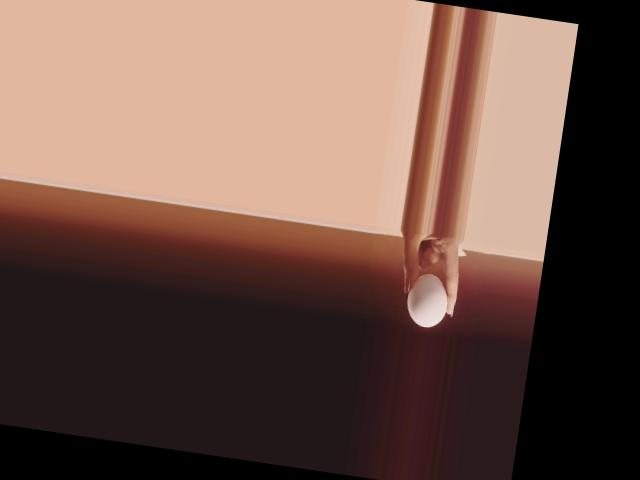egg: (403, 270, 451, 329)
